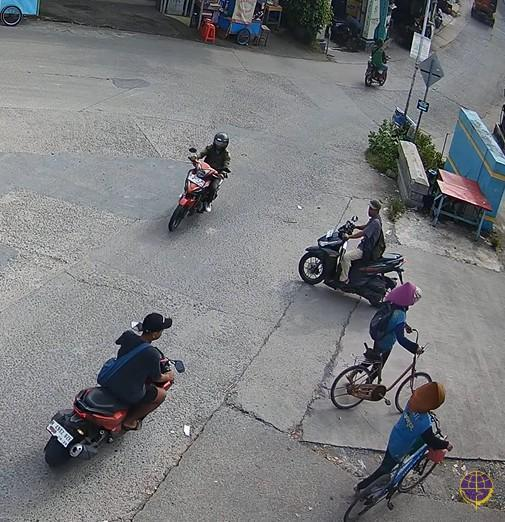Helmet: (408, 382, 445, 413), (385, 282, 420, 306), (213, 133, 228, 149)
Number Plate: (47, 420, 73, 446), (188, 174, 204, 186)
Rearview Mirror: (174, 360, 185, 373), (131, 321, 141, 331), (222, 167, 230, 173), (189, 147, 196, 153), (351, 215, 357, 221)
